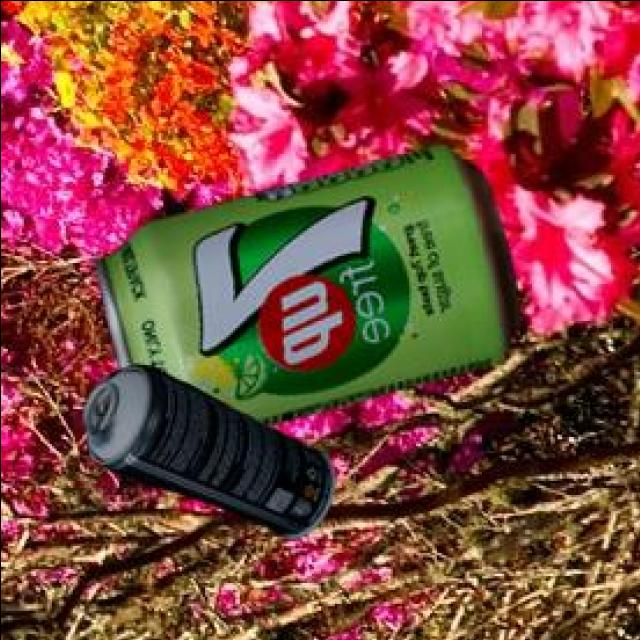logam: (92, 147, 516, 428), (80, 368, 330, 541)
